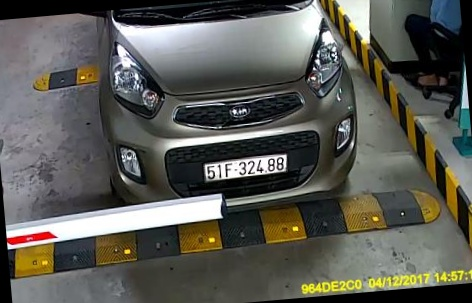plate: (201, 149, 295, 183)
